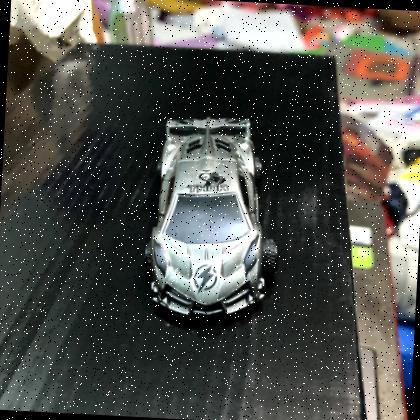Car: (145, 119, 263, 323)
